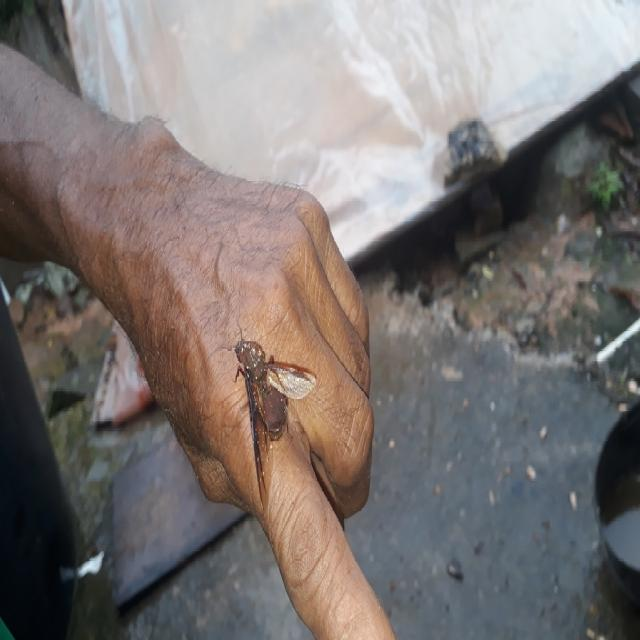Alive-Female-Alate: (206, 301, 316, 517)
